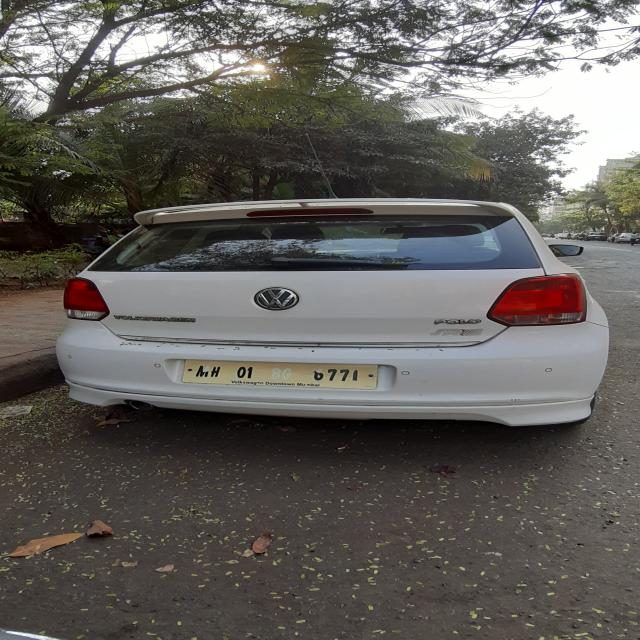Number-Plate: (188, 360, 376, 386)
